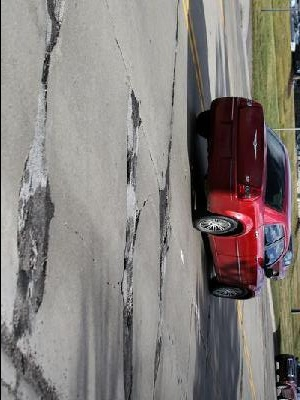pothole: (11, 173, 57, 336), (120, 252, 135, 400), (158, 183, 174, 279), (45, 0, 63, 52), (124, 146, 135, 183)
